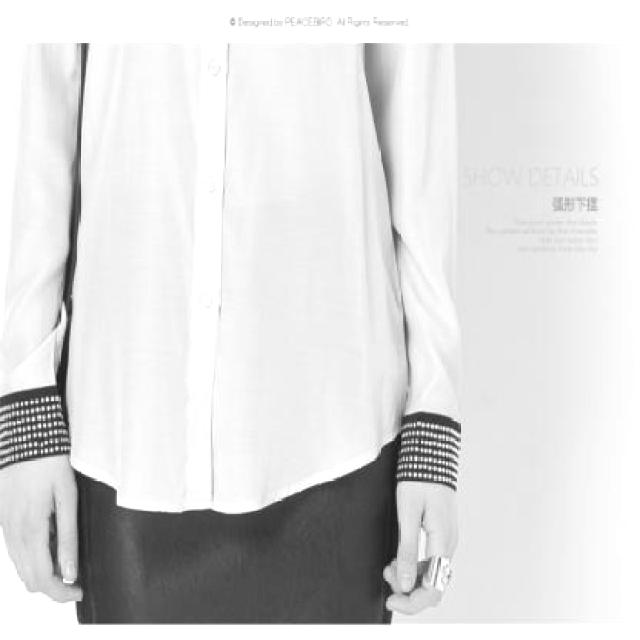hand_noglove: (0, 459, 85, 603), (382, 478, 461, 613)
